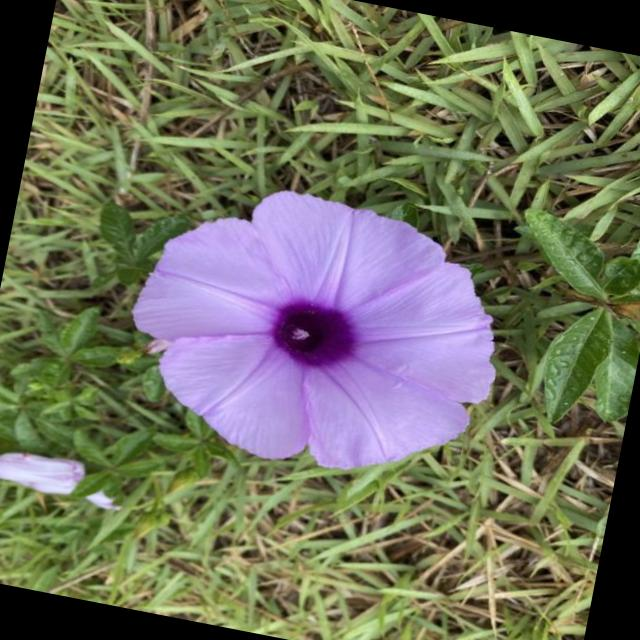ipomoea: (104, 162, 526, 502), (0, 437, 131, 517)
